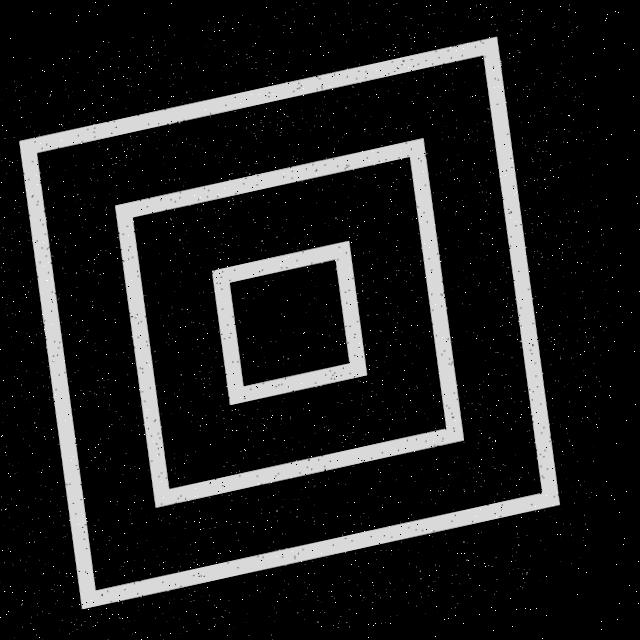BULLSEYE: (0, 2, 618, 640)
